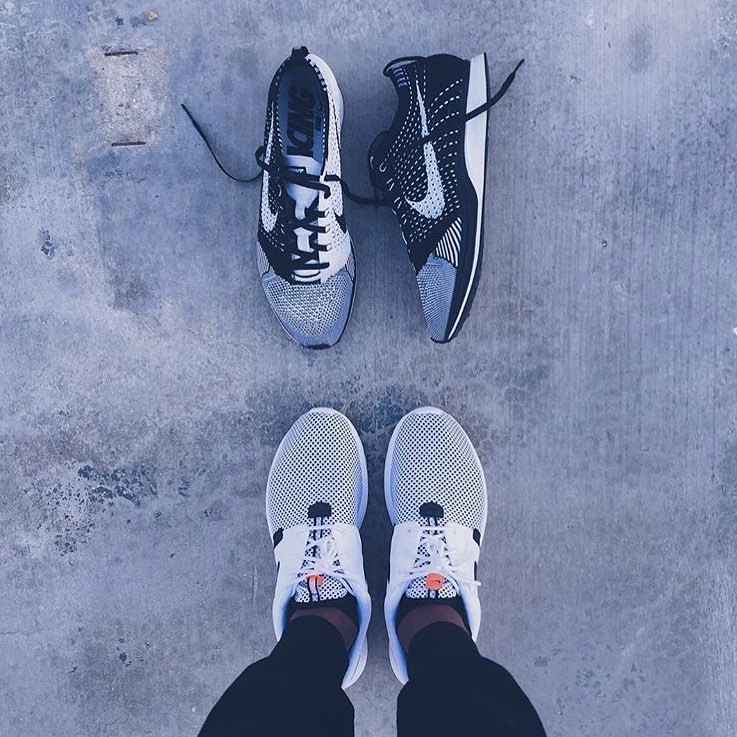sneaker: (237, 387, 379, 700), (381, 387, 516, 700)
